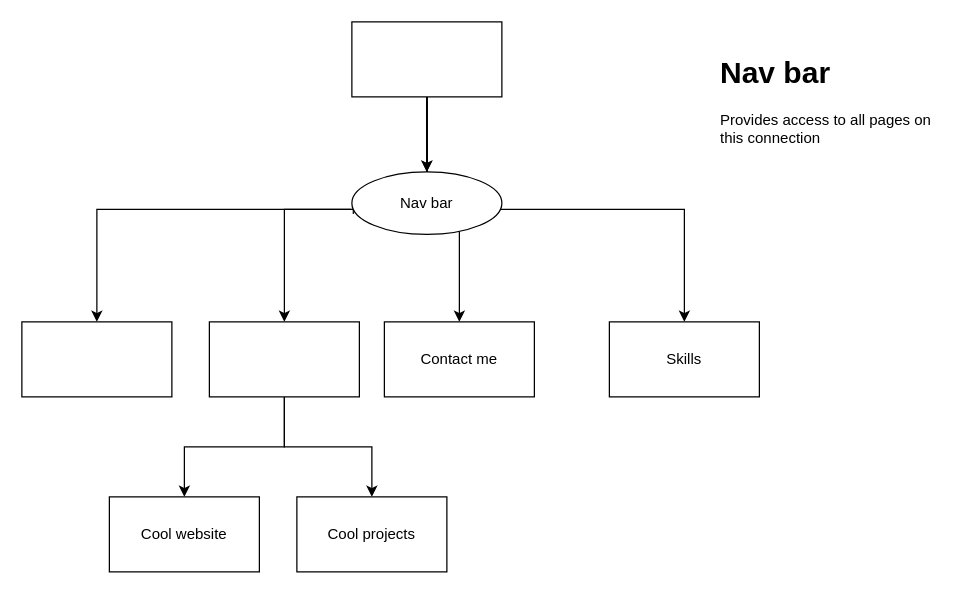
This 965x594 diagram has some shape labels left out. Here are the shapes that lost their labels. From the top down, the centre of each, then its label:
At pixel 426 59: "Home".
At pixel 96 359: "About me".
At pixel 283 359: "Projects".
